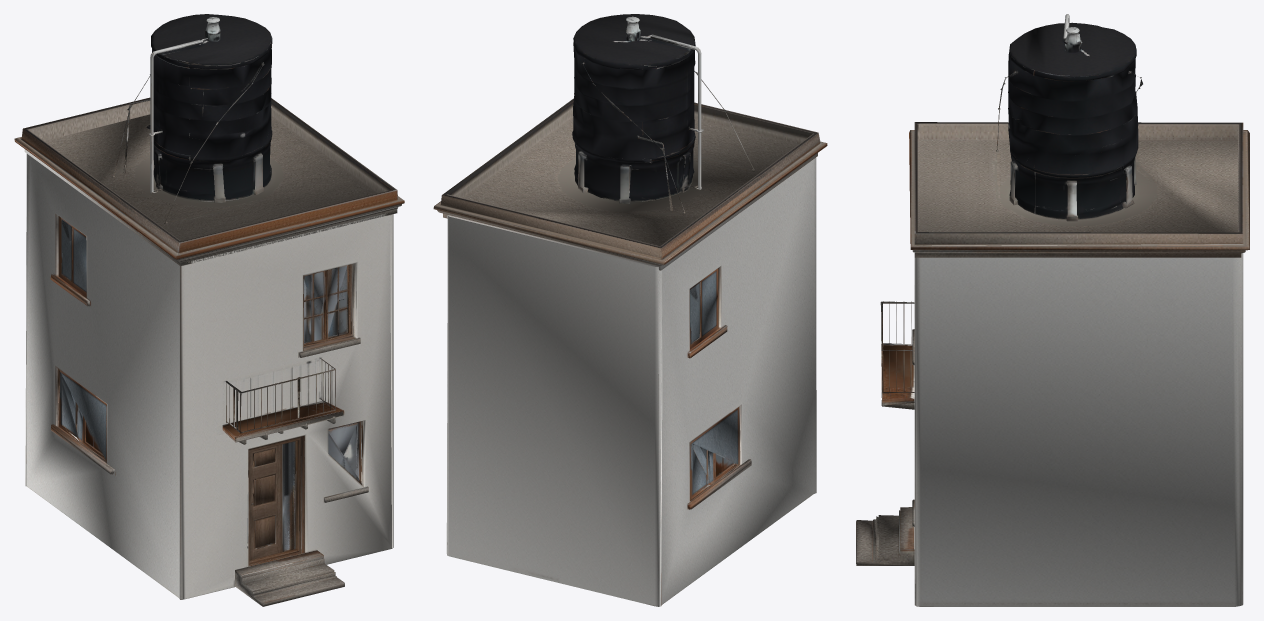
Rendered from casa2.glb.
3 views of the same model, side by side, from view 1: azimuth 30°, elevation 25°; view 2: azimuth 150°, elevation 25°; view 3: azimuth 270°, elevation 25° (orthographic). The views are drawn at different scales.
Size of the model in its own units: 0.457 by 0.9517 by 0.6494.
1 material, 1 textured.
